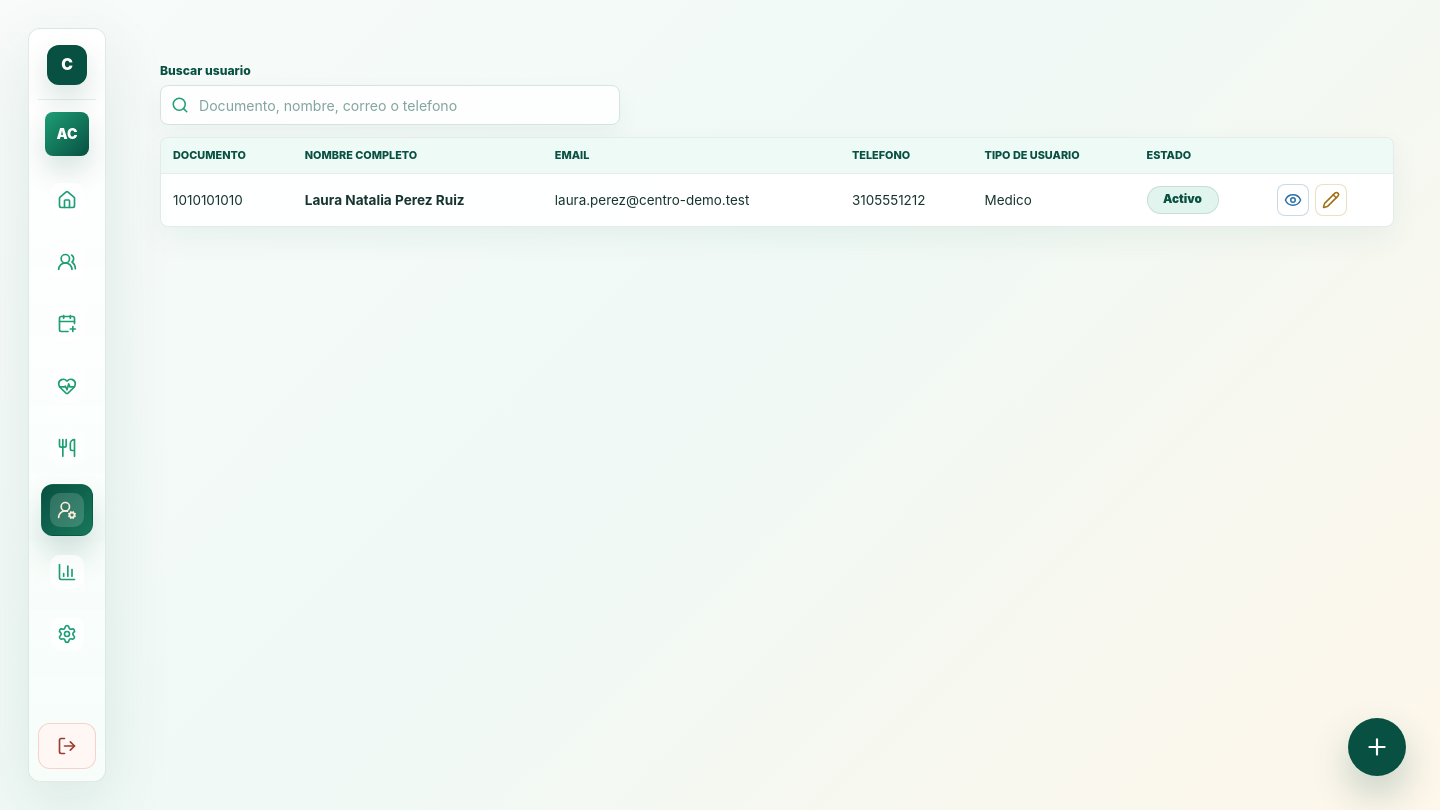
App empleados flow › opens employee details in a modal
Click the button named "Ver Laura Natalia Perez Ruiz" at (1293, 200), box [1277,184,1309,216]
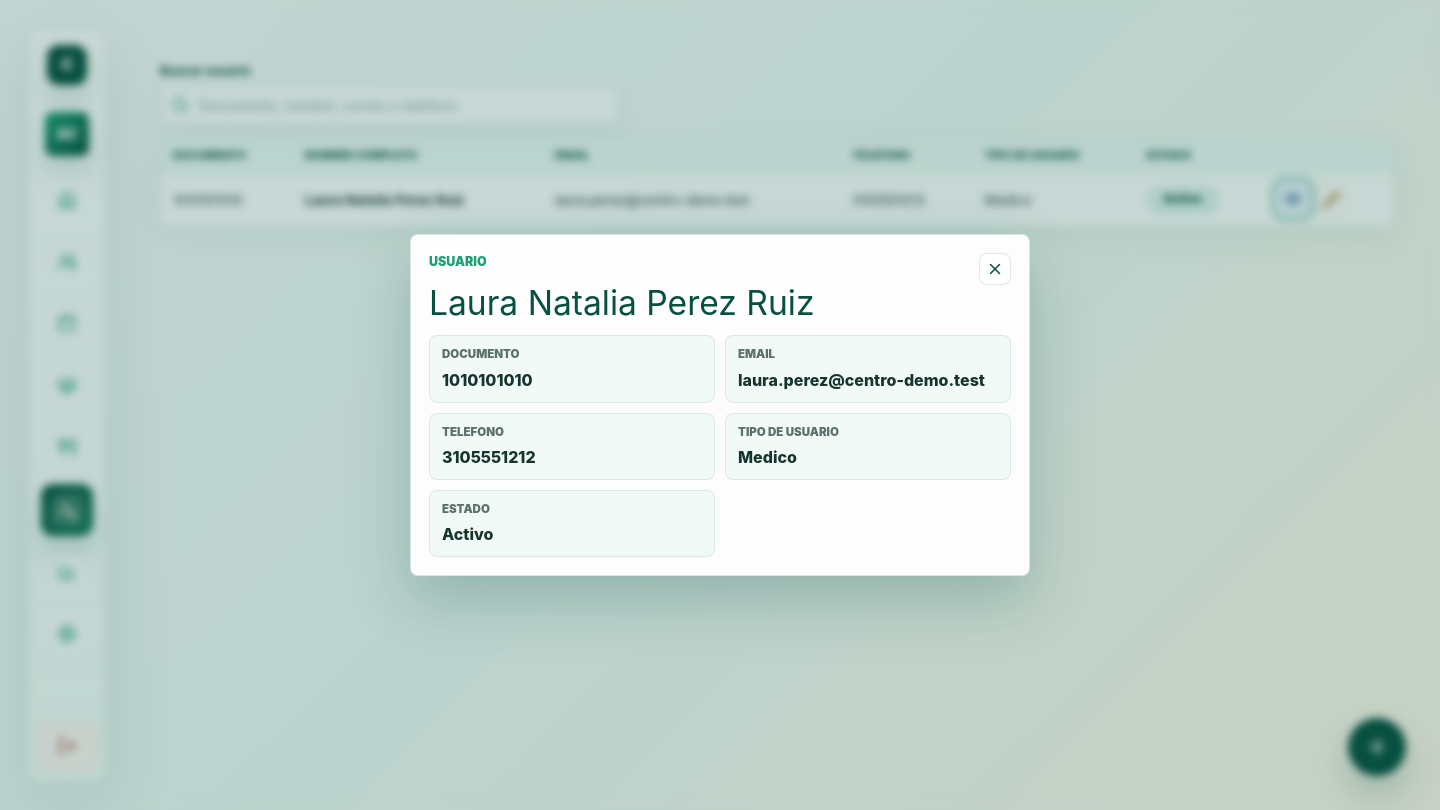
Result: the dialog "Laura Natalia Perez Ruiz" is shown at [410,234,1030,576]
Result: the text "Medico" is shown at [738,447,797,467]
Result: the text "Activo" is shown at [442,524,493,544]
